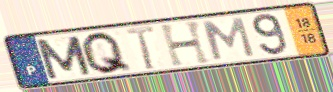9: (251, 13, 290, 57)
H: (157, 19, 214, 68)
M: (32, 34, 94, 81), (200, 15, 257, 62)
Q: (79, 30, 135, 76)
T: (123, 24, 157, 72)
